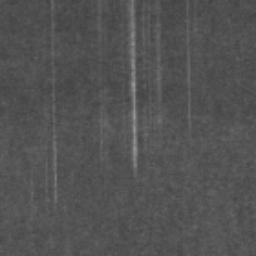Bright scratch: (130, 3, 138, 172), (52, 79, 58, 202)
